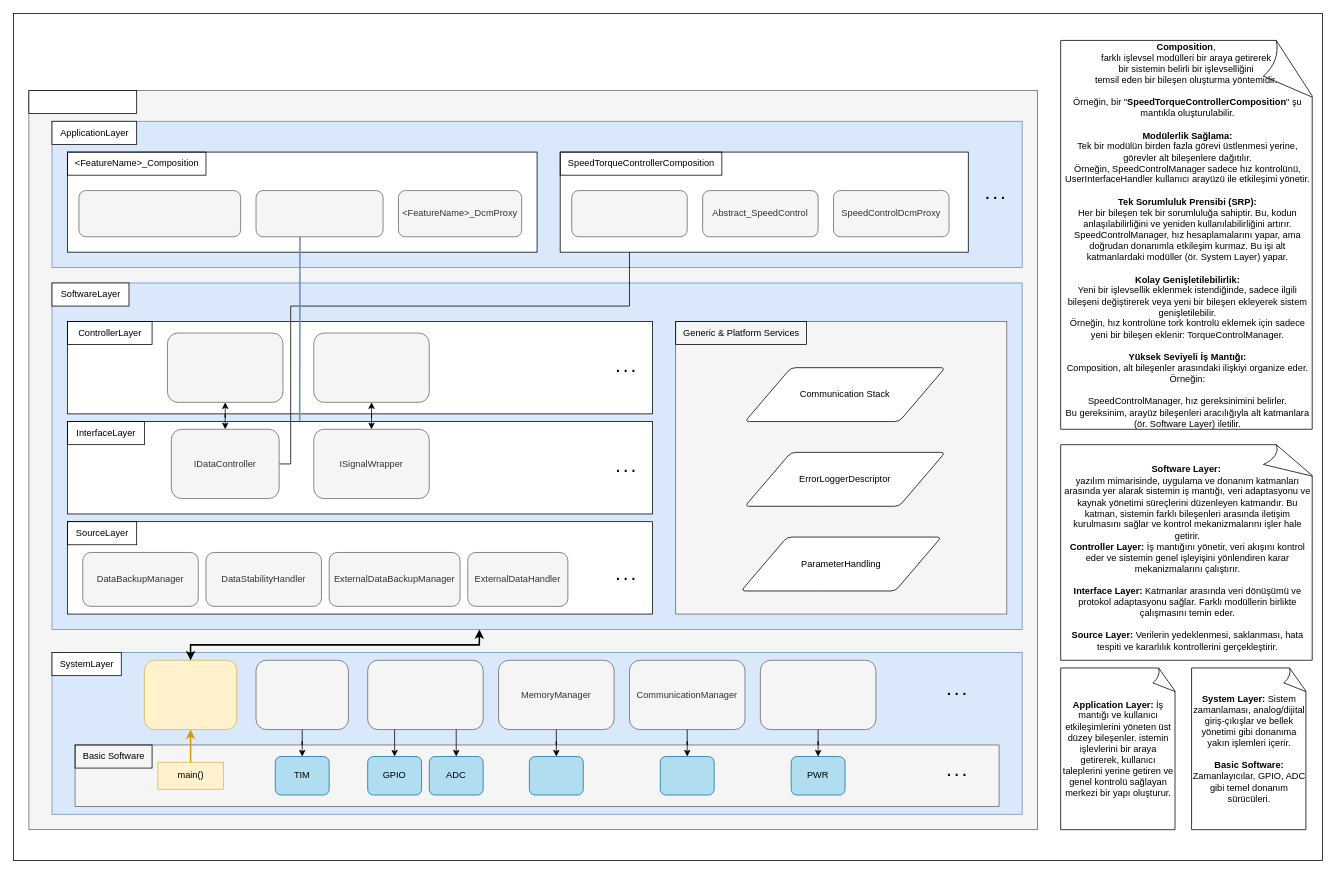
This 1336x874 diagram has some shape labels left out. Here are the shapes that lost their labels. From the top down, the box of each, then its label:
(28, 90, 137, 114): Software Architecture
(78, 190, 241, 237): <FeatureName>_ Manager
(255, 190, 383, 237): Abstract_ <FeatureName>
(571, 190, 687, 237): SpeedControlManager
(167, 332, 283, 402): DataControllerManager
(313, 332, 429, 402): ExternalSignalWrapper
(144, 660, 237, 730): ECUStateManager (root compostion)
(255, 660, 348, 730): SystemTimeManager
(367, 660, 483, 730): AnalogControllerManager
(760, 660, 876, 730): PowerManager
(529, 756, 583, 795): FLASH
(660, 756, 714, 795): CAN
